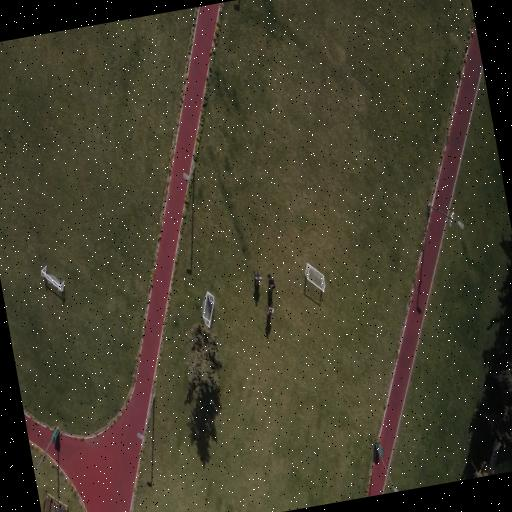person: (254, 271, 261, 285), (267, 274, 274, 288), (267, 303, 273, 314)
